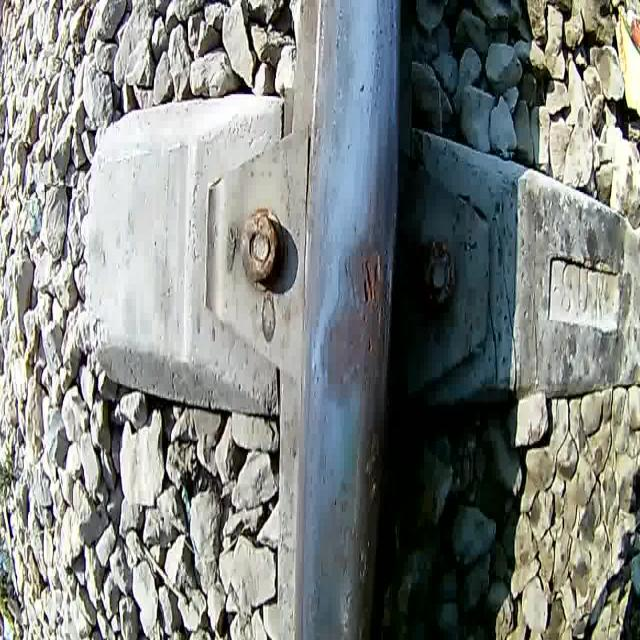Spallings: (356, 244, 386, 362)
Squats: (316, 230, 396, 414)
